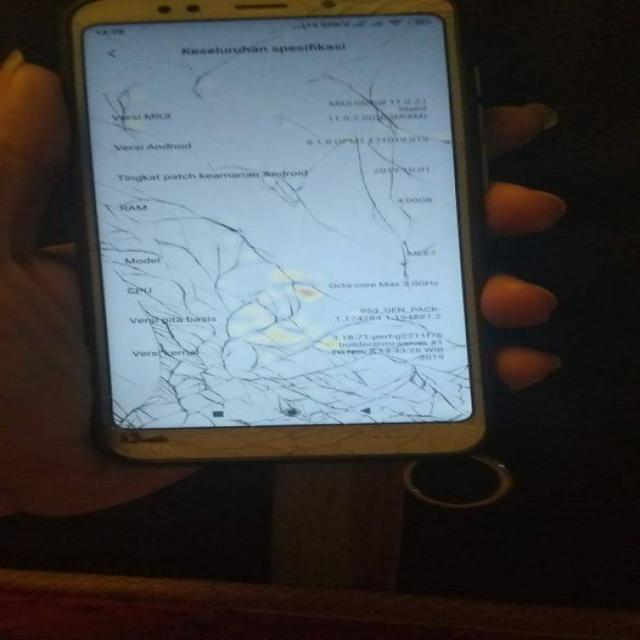phone: (67, 0, 489, 457)
